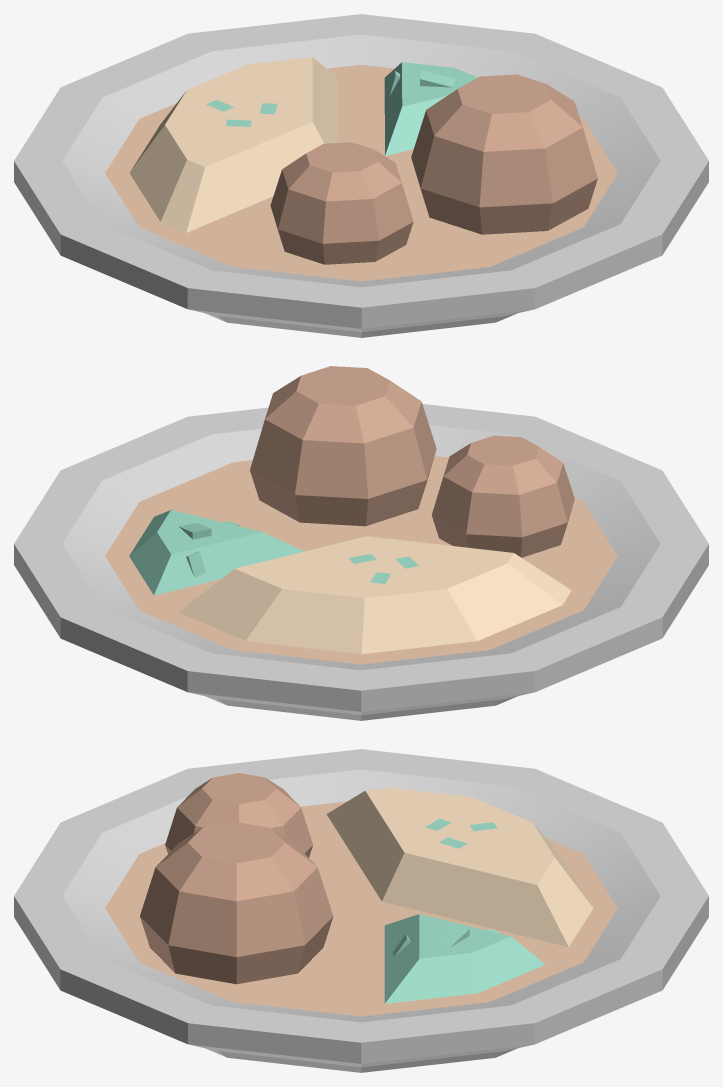
Rendered from plate-dinner.glb.
3 renders of one model, top to bottom at view 1: azimuth 30°, elevation 25°; view 2: azimuth 150°, elevation 25°; view 3: azimuth 270°, elevation 25°, orthographic.
Parts seen in each view (by area): view 1: plateDinner; view 2: plateDinner; view 3: plateDinner.
Part boxes in pixels (x1,y1,x2,y2): plateDinner: (14, 14, 708, 337); plateDinner: (14, 366, 708, 720); plateDinner: (14, 749, 708, 1072).
Size of the model in its own units: 0.8918 by 0.2213 by 0.8918.
